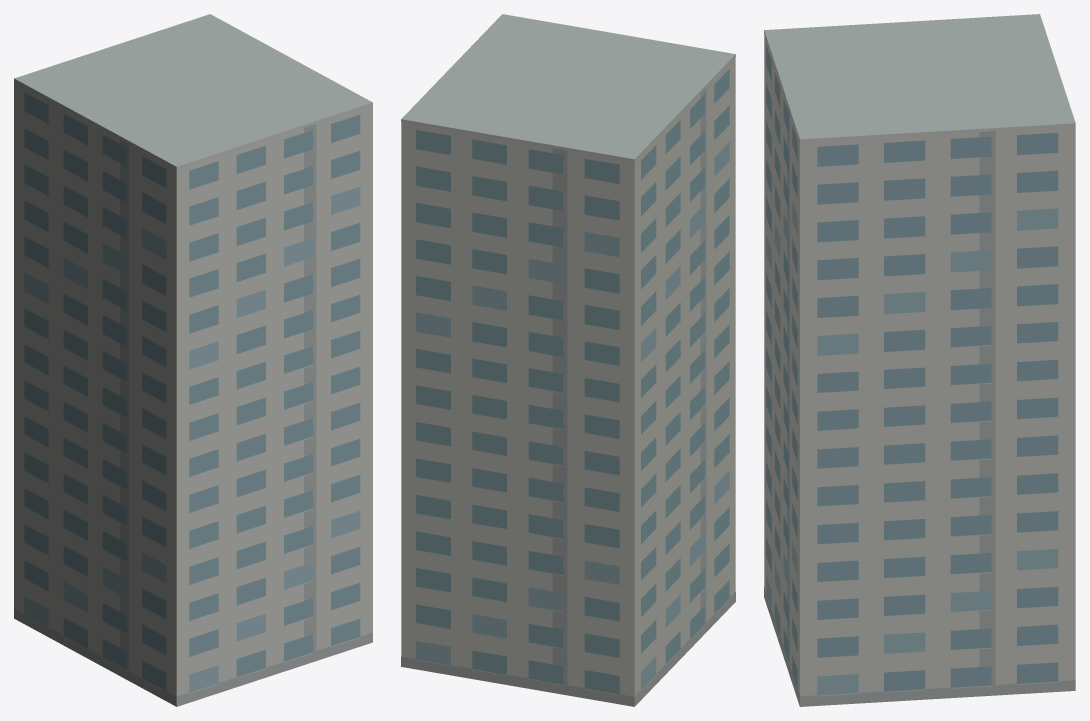
File: residential-c80870dd-6e76-4a4d-a50e-7cb5de7b0804.glb
3 views of the same model, side by side, from view 1: azimuth 30°, elevation 25°; view 2: azimuth 150°, elevation 25°; view 3: azimuth 270°, elevation 25° (orthographic). The views are drawn at different scales.
Parts seen in each view (by area): view 1: residential-c80870dd-6e76-4a4d-a50e-7cb5de7b0804.tmp; view 2: residential-c80870dd-6e76-4a4d-a50e-7cb5de7b0804.tmp; view 3: residential-c80870dd-6e76-4a4d-a50e-7cb5de7b0804.tmp.
Part boxes in pixels (box(x1,y1,x2,y2)): residential-c80870dd-6e76-4a4d-a50e-7cb5de7b0804.tmp: box(14, 14, 372, 706); residential-c80870dd-6e76-4a4d-a50e-7cb5de7b0804.tmp: box(401, 14, 735, 706); residential-c80870dd-6e76-4a4d-a50e-7cb5de7b0804.tmp: box(764, 14, 1075, 706).
Size of the model in its own units: 21.81 by 46 by 22.9.
